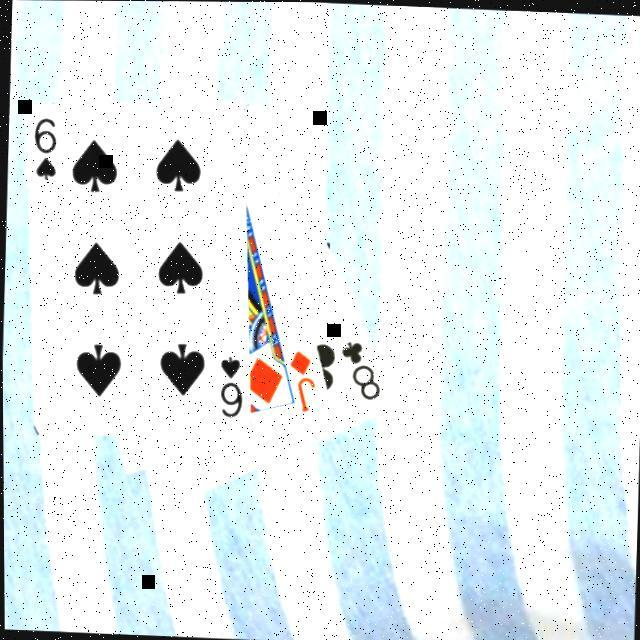6S: (212, 353, 245, 423), (28, 116, 58, 184)
8C: (333, 338, 382, 406)
JD: (282, 346, 318, 416)
